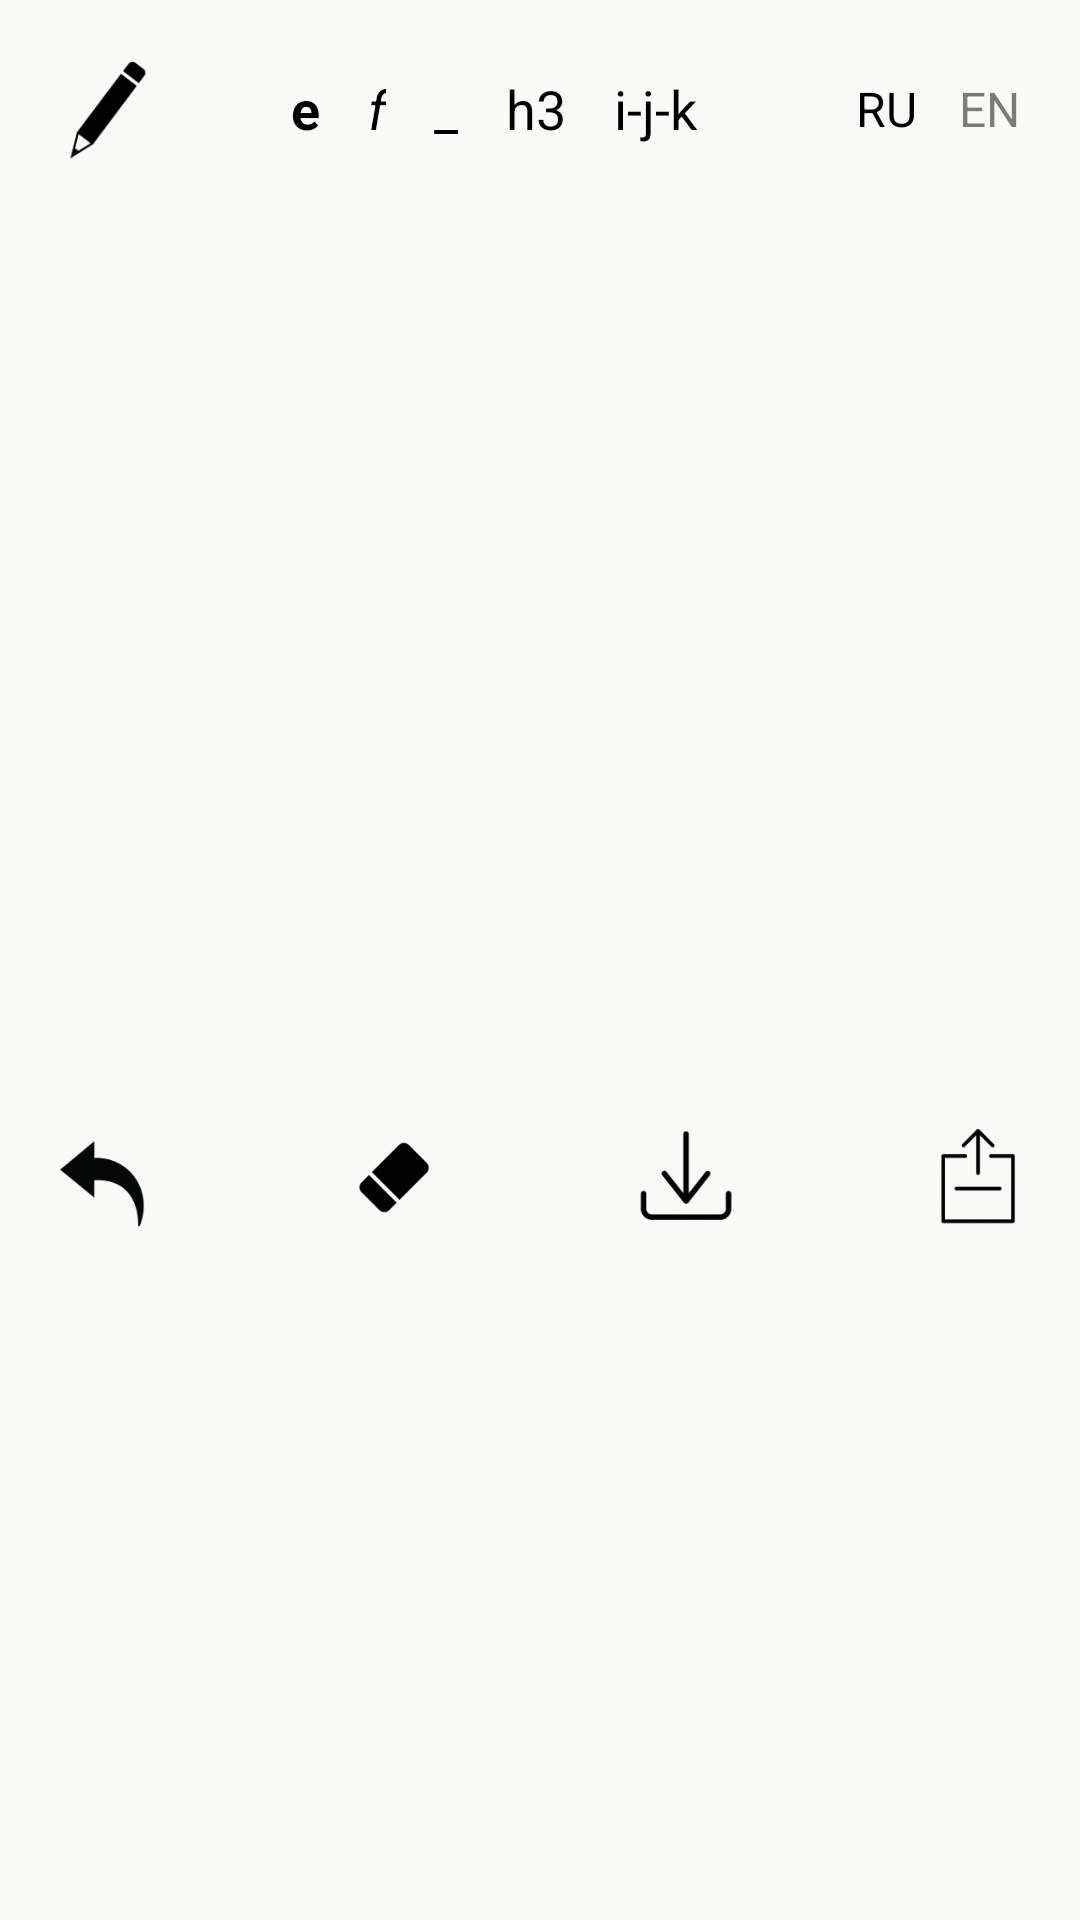

Where icons sit on this 1080px×1920px app screen, as (x1, y1, x2, y2):
download: (640, 1131, 732, 1220)
erase: (359, 1142, 429, 1213)
pencil: (70, 61, 146, 159)
share: (941, 1129, 1015, 1224)
undo: (60, 1141, 144, 1227)
